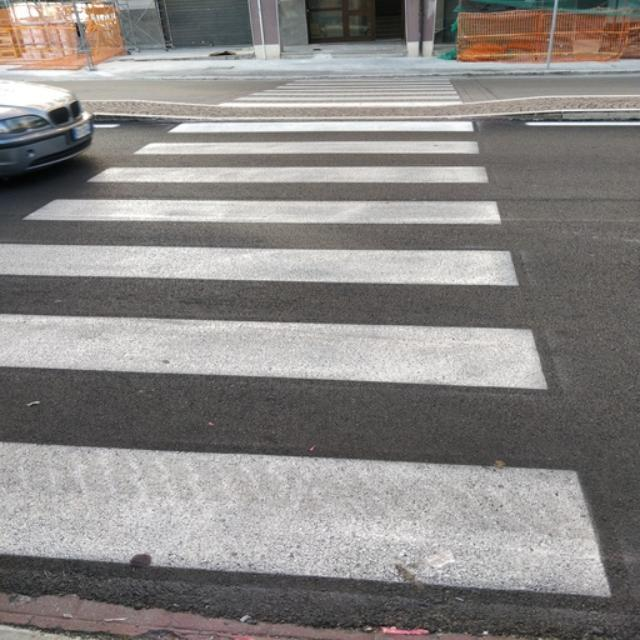sidewalk: (0, 69, 620, 640)
